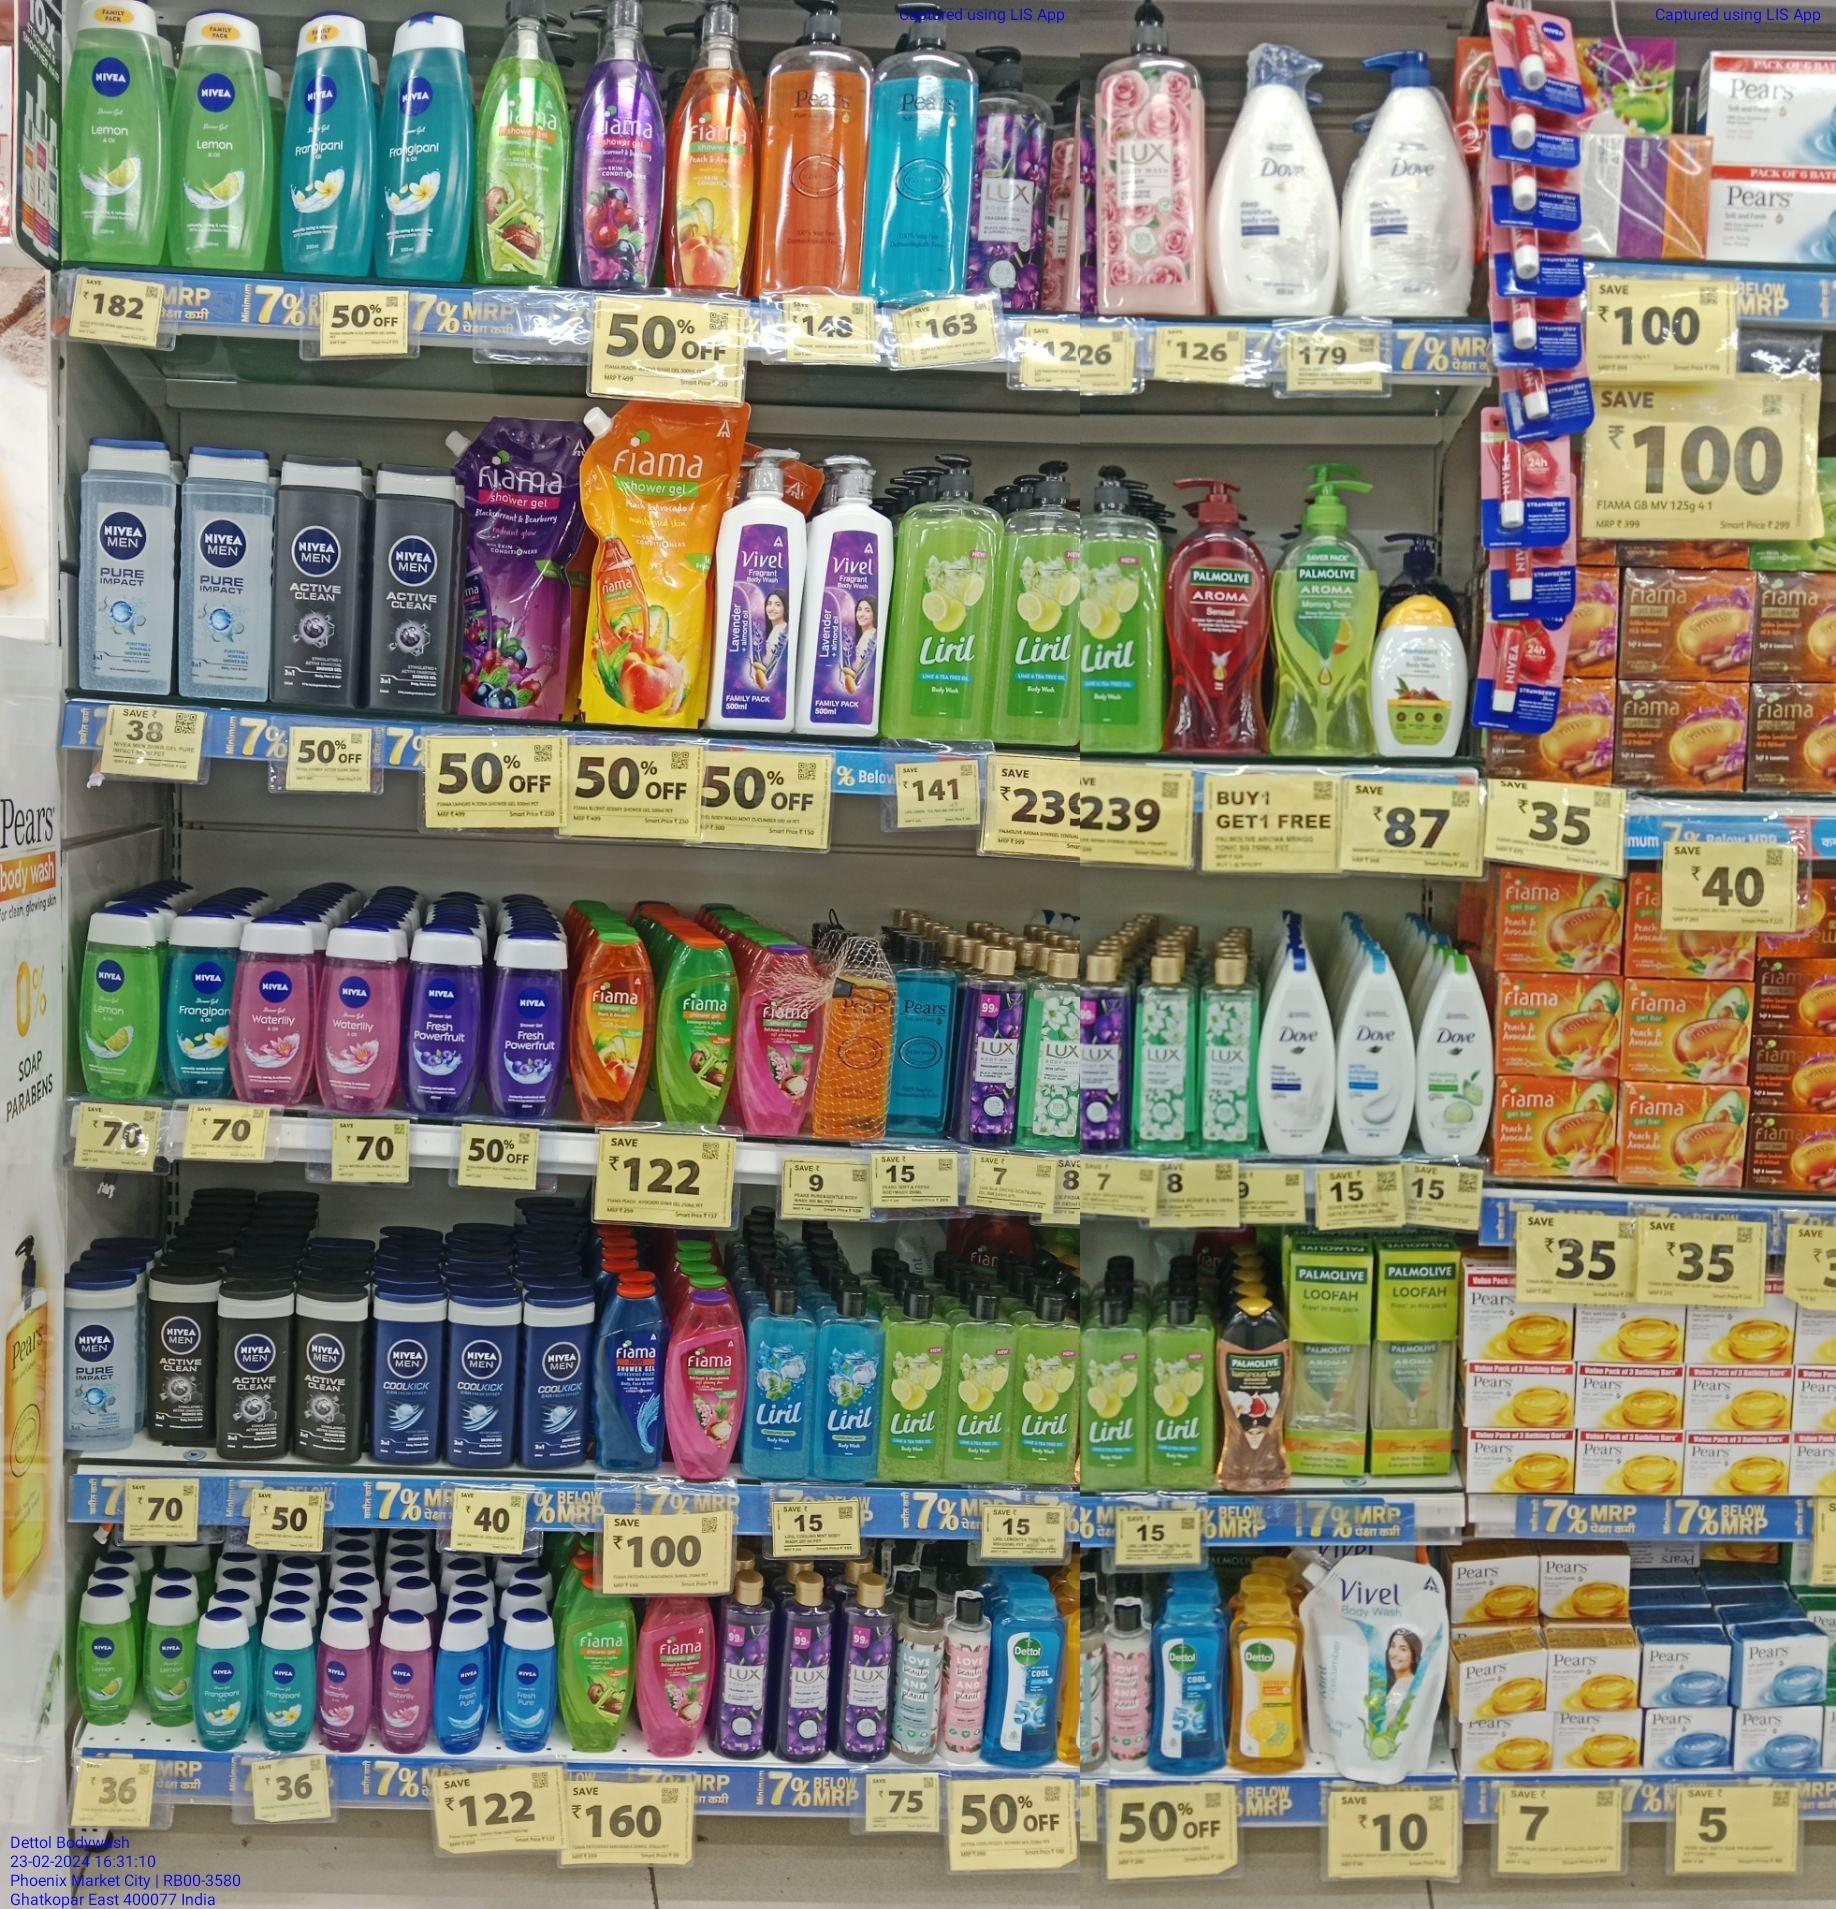Dettol_Bodywash_Cool: (985, 1597, 1065, 1769), (1149, 1602, 1226, 1774)
Dettol_Bodywash_Refresh: (1233, 1602, 1306, 1774)
Dove_Deep_Moisture_Body_Wash_250ML: (1263, 954, 1333, 1156)
Dove_Gentle_Exfoliating_Body_Wash_250ML: (1338, 956, 1415, 1156)
Dove_Refreshing_Body_Wash_250ML: (1418, 958, 1490, 1157)
Fiama_Shower_Gel_Lemongrass_and_Jojoba_250ML: (656, 939, 735, 1125), (564, 1585, 636, 1754)
Fiama_Shower_Gel_Patchouli_and_Macadamia_250ML: (667, 1299, 743, 1481), (742, 951, 813, 1128), (638, 1600, 713, 1756)
Fiama_Shower_Gel_Peach_and_Avocado_250ML: (574, 939, 653, 1123)
Liril_Cooling_Mint_Body_Wash_250ML: (743, 1292, 813, 1479), (813, 1292, 881, 1481)
Liril_Lime_and_Tea_Tree_Oil_Body_Wash_250ML: (1149, 1299, 1215, 1491), (1083, 1299, 1149, 1491), (885, 1295, 950, 1481), (1018, 1299, 1081, 1486), (951, 1297, 1014, 1483)
Lux_Black_Orchid_Scent_and_Juniper_Oil_Body_Wash_245ML: (960, 949, 1019, 1149), (837, 1580, 895, 1761), (718, 1577, 772, 1757), (777, 1578, 832, 1759)
Lux_Body_Wash_Skin_Detox_Freesia_Scent_and_Alove_Vera_245ML: (1134, 960, 1197, 1157), (1200, 958, 1260, 1154)
Nivea_Shower_Gel_Frangipani_and_Oil_250ML: (378, 15, 471, 281), (281, 17, 375, 274), (164, 917, 232, 1099), (256, 1619, 317, 1750), (196, 1618, 252, 1750)
Nivea_Shower_Gel_Fresh_Powerfruit_250ML: (488, 939, 563, 1118), (406, 934, 481, 1111)
Nivea_Shower_Gel_Lemon_and_Oil_250ML: (68, 0, 165, 264), (174, 15, 269, 269), (78, 914, 157, 1098), (77, 1595, 135, 1723), (145, 1600, 199, 1723)
Nivea_Shower_Gel_Waterlily_and_Oil_250ML: (319, 929, 395, 1110), (237, 924, 314, 1099), (378, 1616, 431, 1752), (320, 1612, 372, 1752)
Palmolive_Luminous_Oils_With_White_Orchid_Shower_Gel_250ML: (1219, 1302, 1290, 1491)
Pears_Pure_Glycerin_and_Mint_Extracts_Body_Wash_250ML: (890, 939, 953, 1137)
